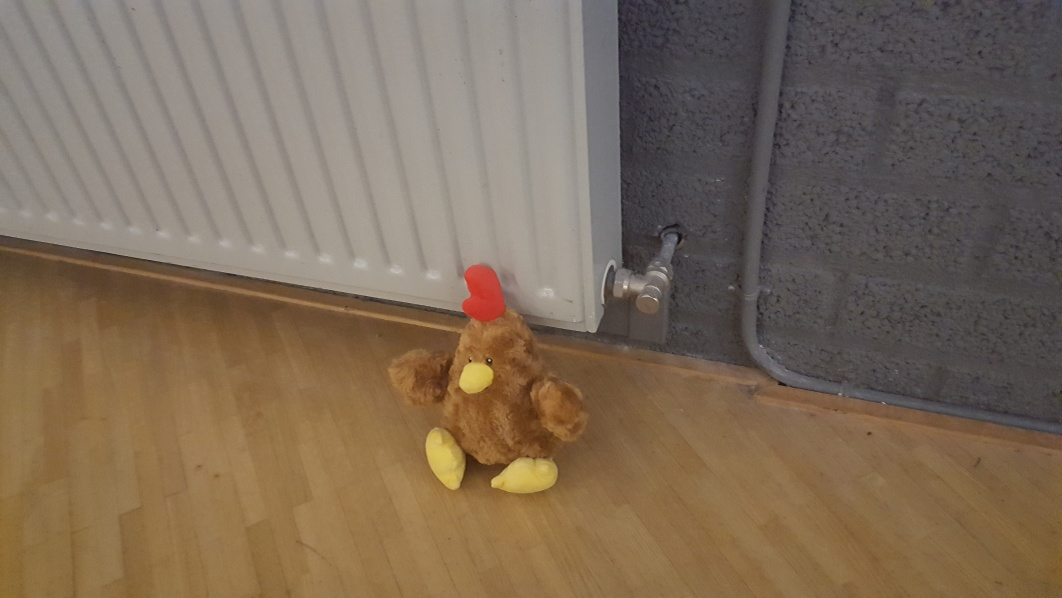chicken: (382, 265, 598, 502)
